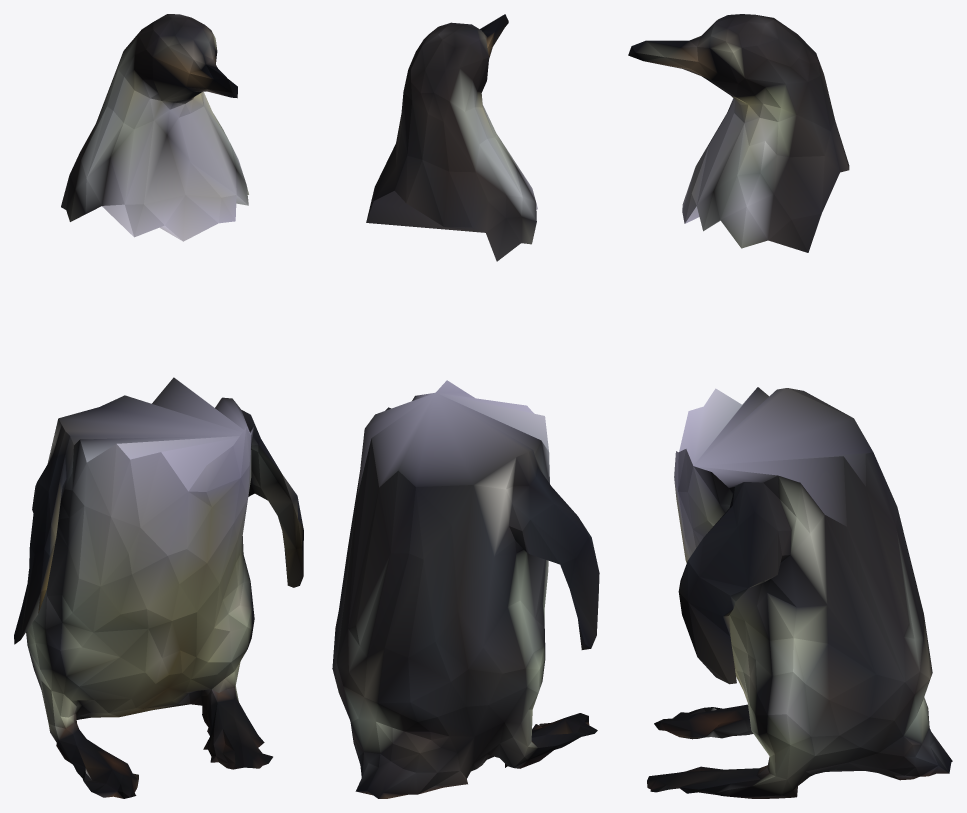
The model's file is penguin_Sliced.fbx.
The picture shows the model from 3 angles, left to right: view 1: azimuth 30°, elevation 25°; view 2: azimuth 150°, elevation 25°; view 3: azimuth 270°, elevation 25°; orthographic projection. The views are drawn at different scales.
Parts seen in each view (by area): view 1: Penguin_bottum, Pengiun_Top; view 2: Penguin_bottum, Pengiun_Top; view 3: Penguin_bottum, Pengiun_Top.
Boxes of the visible parts, x1,y1,x2,y2 form: Penguin_bottum: (14,377,303,798); Pengiun_Top: (61,14,248,241); Penguin_bottum: (332,380,599,798); Pengiun_Top: (366,14,537,261); Penguin_bottum: (647,387,952,798); Pengiun_Top: (628,14,849,252).
Bounding box in the file's own units: 74.17 × 197 × 76.53.
